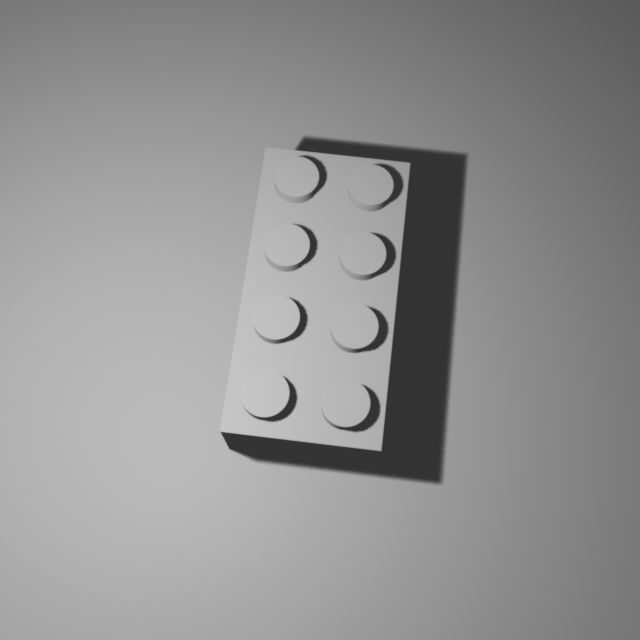lego_2x4: (218, 140, 412, 467)
